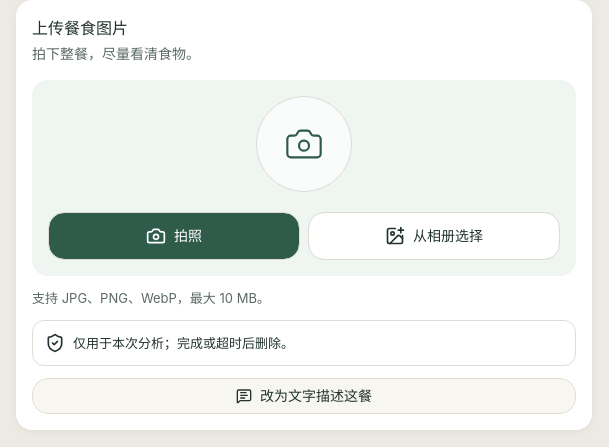
Test: AnalyzePage › switches from image upload to a labelled text input without inventing a report
Click the button "改为文字描述这餐".
click(304, 396)  # box [32, 378, 576, 414]
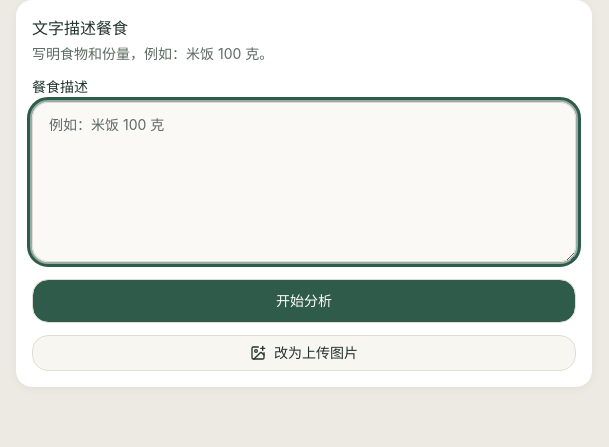
Now the text box labelled "餐食描述" is shown, box [32, 102, 576, 262]
Now the button "改为上传图片" is shown, box [32, 335, 576, 371]
